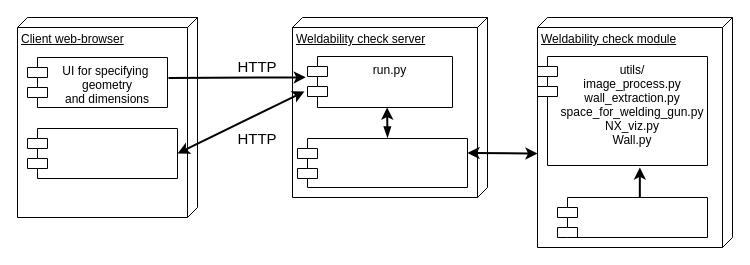
The diagram is 750 pixels wide and 265 high, and some of its shapes have lost their labels. The shapes that lost their labels are listed below. From the top down, each one's centre as x and y in pixels, then its label:
At (x=102, y=153): "UI for receiving results".
At (x=382, y=163): "utils/ my_handler.py".
At (x=632, y=217): "Shapes/ Block.py".
